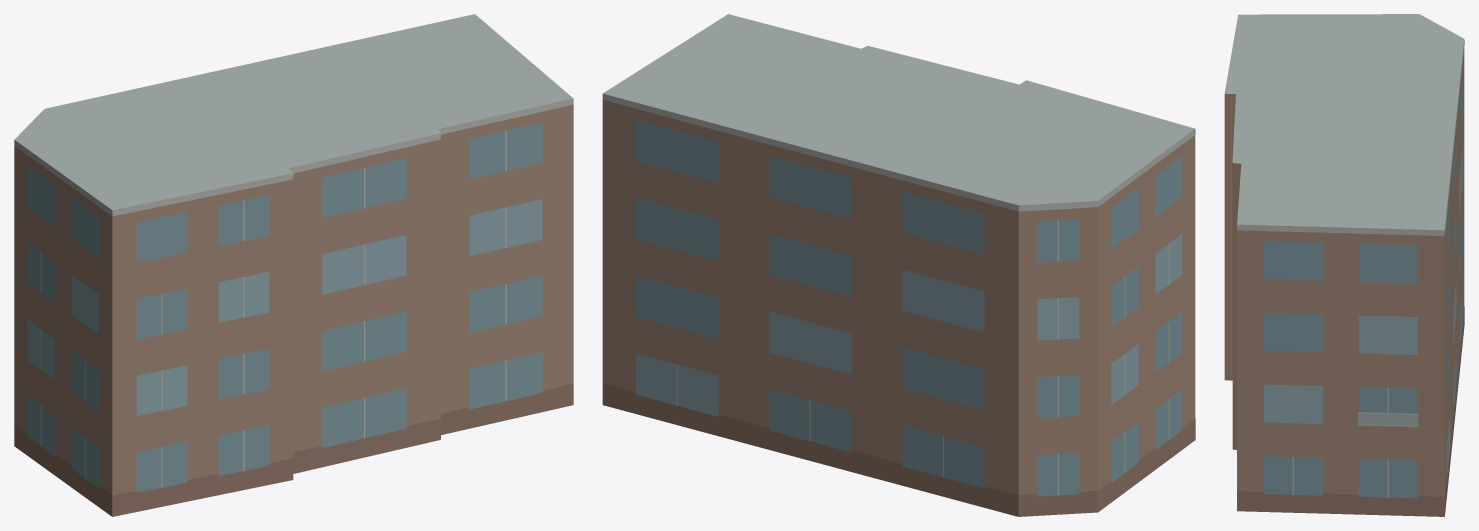
The model's file is survey-upis-32906278.glb.
The picture shows the model from 3 angles, left to right: view 1: azimuth 30°, elevation 25°; view 2: azimuth 150°, elevation 25°; view 3: azimuth 270°, elevation 25°; orthographic projection. The views are drawn at different scales.
Visible parts, largest first — view 1: survey-upis-32906278.tmp; view 2: survey-upis-32906278.tmp; view 3: survey-upis-32906278.tmp.
Boxes of the visible parts, x1,y1,x2,y2 form: survey-upis-32906278.tmp: (14, 14, 573, 516); survey-upis-32906278.tmp: (602, 14, 1195, 516); survey-upis-32906278.tmp: (1224, 14, 1464, 516).
Size of the model in its own units: 19.76 by 12.2 by 9.27.
